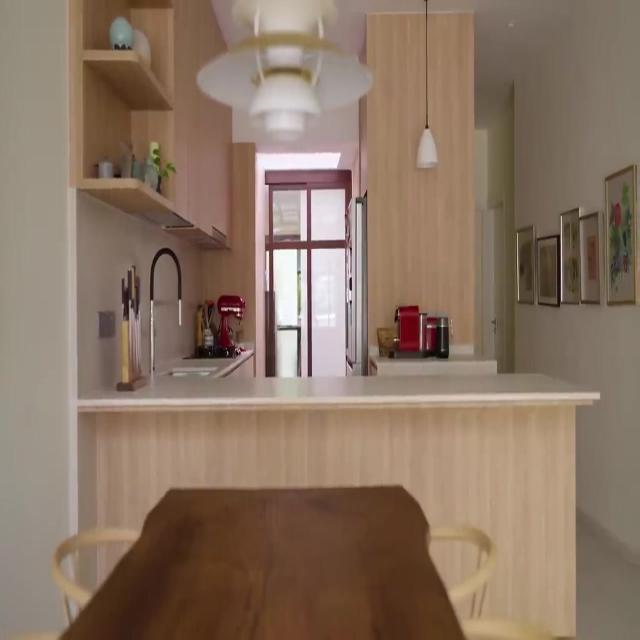door: (264, 171, 350, 377)
obstacle: (57, 482, 467, 638), (68, 0, 234, 250), (344, 192, 368, 375)
